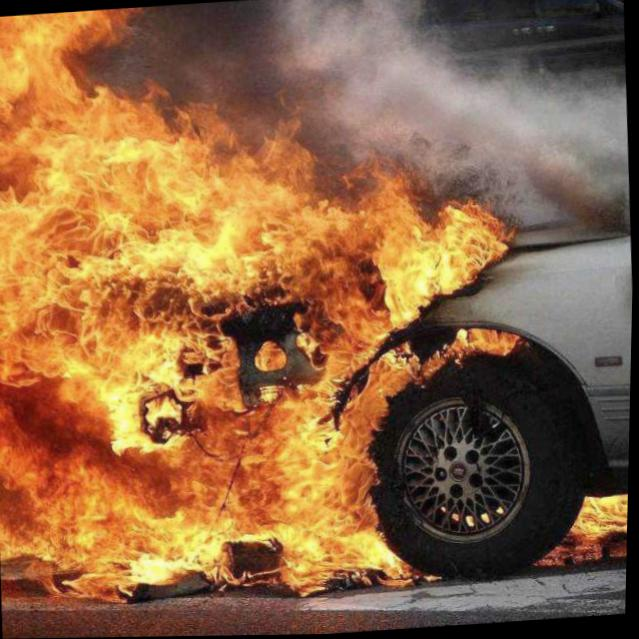fire: (0, 15, 555, 607), (568, 486, 628, 569)
